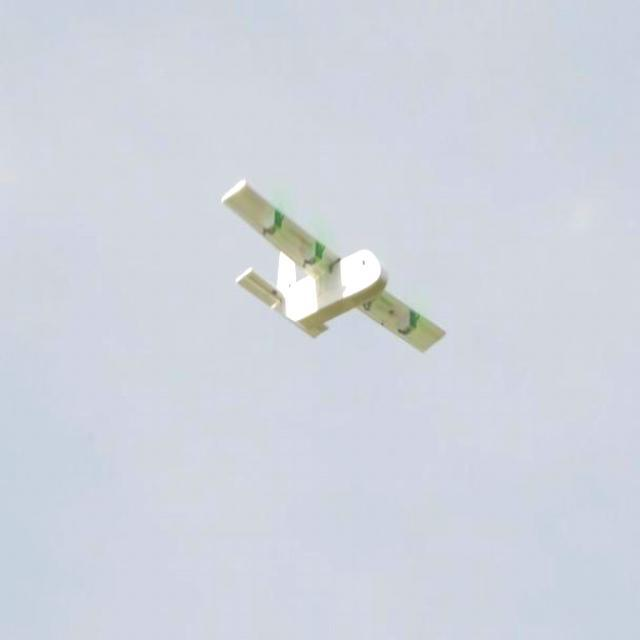iha: (219, 171, 448, 350)
